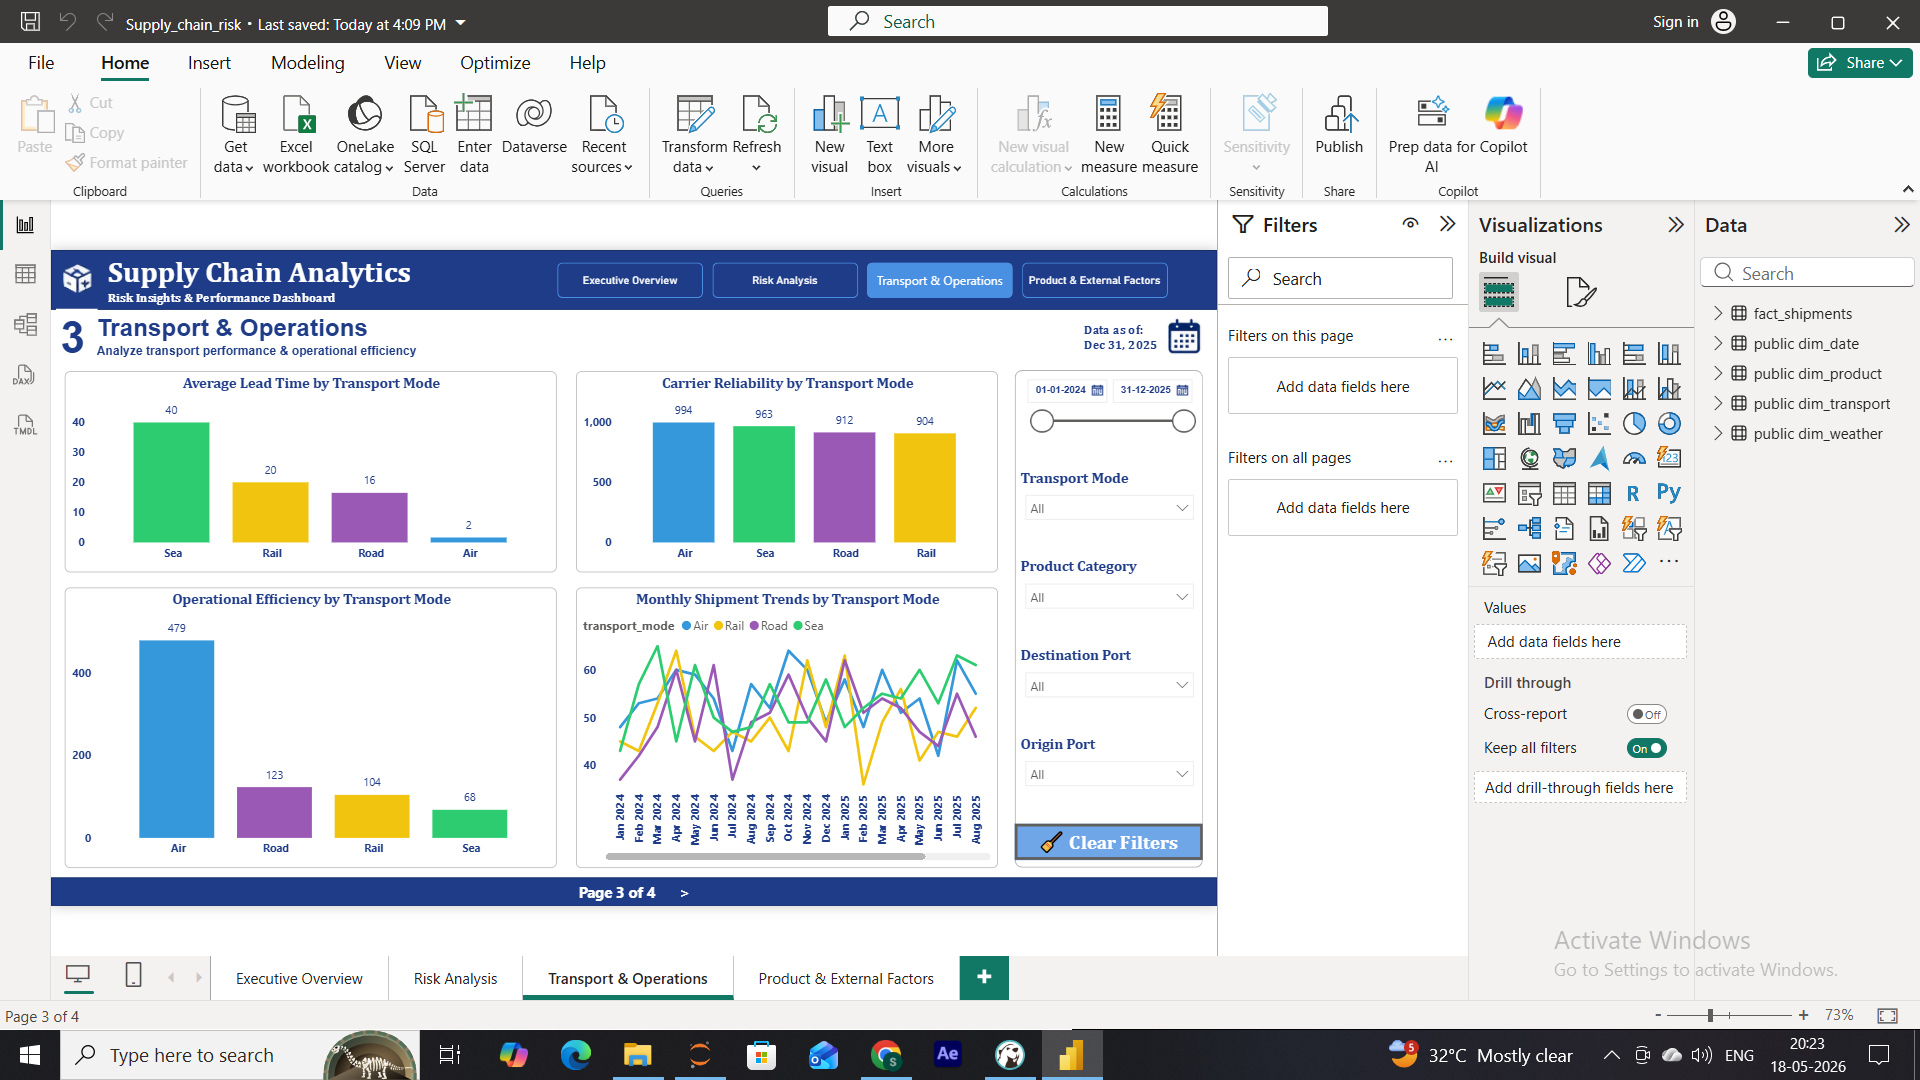

The dashboard page shown, as its layout file describes it:
{"tool":"powerbi","page":{"name":"Transport & Operations","canvas":[1280,720],"ordinal":2},"visuals":[{"type":"shape","box":[0,0,1280.3,65.9],"z":0},{"type":"shape","box":[0,688.4,1280.3,31.6],"z":1000},{"type":"textbox","box":[0,688.4,1280.3,31.6],"z":2000},{"type":"pageNavigator","box":[555.7,13.7,672.4,39.8],"z":3000},{"type":"image","box":[0,6.8,57,52.9],"z":4000},{"type":"textbox","box":[57,0,397.8,221.3],"z":5000},{"type":"textbox","box":[6,64.8,45.6,80.5],"z":6000},{"type":"textbox","box":[45.6,66,792.5,98.5],"z":7000},{"type":"cardVisual","fields":{"Data":["fact_shipments.Last Updated"]},"box":[1104.7,43.2,159.7,102.1],"z":8000},{"type":"image","box":[1226,73.2,37.2,44.4],"z":9000},{"type":"columnChart","title":"Average Lead Time by Transport Mode","fields":{"Category":["fact_shipments.transport_mode"],"Y":["Avg(fact_shipments.lead_time_days)"]},"box":[15.7,132.6,540.2,220.9],"z":10000},{"type":"columnChart","title":"Carrier Reliability by Transport Mode","fields":{"Category":["fact_shipments.transport_mode"],"Y":["Sum(fact_shipments.carrier_reliability_score)"]},"box":[575.9,132.6,463.3,220.9],"z":11000},{"type":"columnChart","title":"Operational Efficiency by Transport Mode","fields":{"Category":["fact_shipments.transport_mode"],"Y":["Sum(fact_shipments.efficiency_score)"]},"box":[15.7,370.6,540.2,307.9],"z":12000},{"type":"lineChart","title":"Monthly Shipment Trends by Transport Mode","fields":{"Category":["fact_shipments.Month"],"Series":["fact_shipments.transport_mode"],"Y":["fact_shipments.Total Shipments"]},"box":[575.9,370.6,463.3,307.9],"z":13000},{"type":"shape","box":[1057.9,132.1,206.5,546.3],"z":14000},{"type":"slicer","fields":{"Values":["fact_shipments.date"]},"box":[1059.1,132.1,205.3,94.9],"z":15000},{"type":"slicer","title":"Transport Mode","fields":{"Values":["fact_shipments.transport_mode"]},"box":[1059.1,240.2,205.3,79.2],"z":16000},{"type":"slicer","title":"Product Category","fields":{"Values":["fact_shipments.product_category"]},"box":[1059,337.8,205,78.7],"z":17000},{"type":"slicer","title":"Destination Port","fields":{"Values":["fact_shipments.risk_level"]},"box":[1059,434.9,205,78.7],"z":18000},{"type":"slicer","title":"Origin Port","fields":{"Values":["fact_shipments.weather_condition"]},"box":[1059,532.1,205,78.7],"z":19000},{"type":"textbox","box":[1057.9,629.2,205.3,39.6],"z":20000},{"type":"actionButton","box":[1057.9,629.2,206.5,39.6],"z":21000}]}

Visuals, with their boxes on the page's 1280x720 design canvas (x1, y1, x2, y2). These are canvas units, not pixel positions in the 1920x1080 screenshot, which may show the page scaled, cropped or inside an application window:
shape: {"x1": 0, "y1": 0, "x2": 1280, "y2": 66}
shape: {"x1": 0, "y1": 688, "x2": 1280, "y2": 720}
textbox: {"x1": 0, "y1": 688, "x2": 1280, "y2": 720}
pageNavigator: {"x1": 556, "y1": 14, "x2": 1228, "y2": 54}
image: {"x1": 0, "y1": 7, "x2": 57, "y2": 60}
textbox: {"x1": 57, "y1": 0, "x2": 455, "y2": 221}
textbox: {"x1": 6, "y1": 65, "x2": 52, "y2": 145}
textbox: {"x1": 46, "y1": 66, "x2": 838, "y2": 164}
cardVisual - fact_shipments.Last Updated: {"x1": 1105, "y1": 43, "x2": 1264, "y2": 145}
image: {"x1": 1226, "y1": 73, "x2": 1263, "y2": 118}
"Average Lead Time by Transport Mode" columnChart: {"x1": 16, "y1": 133, "x2": 556, "y2": 354}
"Carrier Reliability by Transport Mode" columnChart: {"x1": 576, "y1": 133, "x2": 1039, "y2": 354}
"Operational Efficiency by Transport Mode" columnChart: {"x1": 16, "y1": 371, "x2": 556, "y2": 678}
"Monthly Shipment Trends by Transport Mode" lineChart: {"x1": 576, "y1": 371, "x2": 1039, "y2": 678}
shape: {"x1": 1058, "y1": 132, "x2": 1264, "y2": 678}
slicer - fact_shipments.date: {"x1": 1059, "y1": 132, "x2": 1264, "y2": 227}
"Transport Mode" slicer: {"x1": 1059, "y1": 240, "x2": 1264, "y2": 319}
"Product Category" slicer: {"x1": 1059, "y1": 338, "x2": 1264, "y2": 416}
"Destination Port" slicer: {"x1": 1059, "y1": 435, "x2": 1264, "y2": 514}
"Origin Port" slicer: {"x1": 1059, "y1": 532, "x2": 1264, "y2": 611}
textbox: {"x1": 1058, "y1": 629, "x2": 1263, "y2": 669}
actionButton: {"x1": 1058, "y1": 629, "x2": 1264, "y2": 669}
